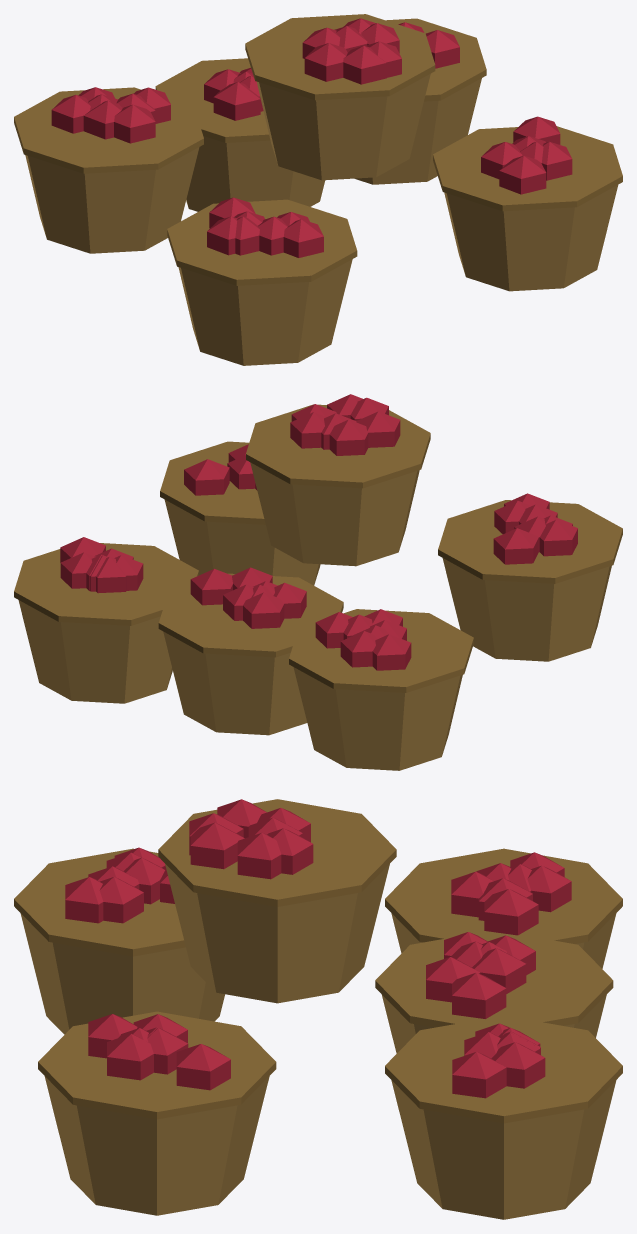
Rendered from pile_berries_3.glb.
The picture shows the model from 3 angles, top to bottom: view 1: azimuth 30°, elevation 25°; view 2: azimuth 150°, elevation 25°; view 3: azimuth 270°, elevation 25°; orthographic projection. The views are drawn at different scales.
Parts seen in each view (by area): view 1: pile_berries_3; view 2: pile_berries_3; view 3: pile_berries_3.
Part boxes in pixels (x1,y1,x2,y2): pile_berries_3: (14,14,622,365); pile_berries_3: (14,394,622,770); pile_berries_3: (14,799,622,1219).
Size of the model in its own units: 1.31 by 0.648 by 1.26.
